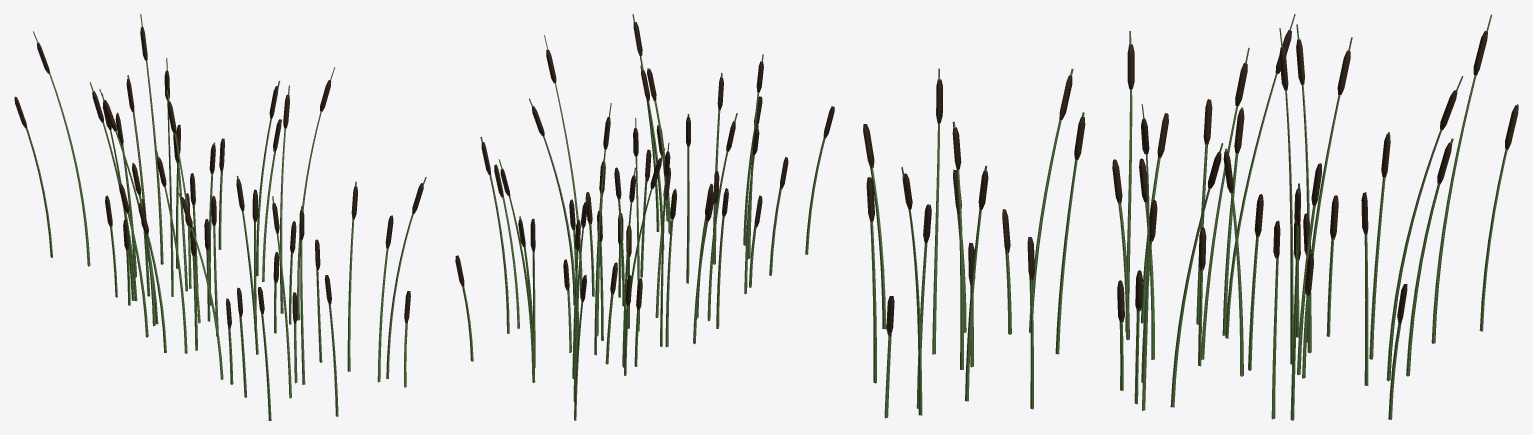
Rendered from plant_cattail_set_A.fbx.
The picture shows the model from 3 angles, left to right: view 1: azimuth 30°, elevation 25°; view 2: azimuth 150°, elevation 25°; view 3: azimuth 270°, elevation 25°; orthographic projection. The views are drawn at different scales.
Parts seen in each view (by area): view 1: plant_cattail_set_A; view 2: plant_cattail_set_A; view 3: plant_cattail_set_A.
Boxes of the visible parts, x1,y1,x2,y2 form: plant_cattail_set_A: [14, 14, 426, 420]; plant_cattail_set_A: [455, 14, 834, 420]; plant_cattail_set_A: [863, 14, 1518, 420].
Size of the model in its own units: 193 by 240 by 417.
